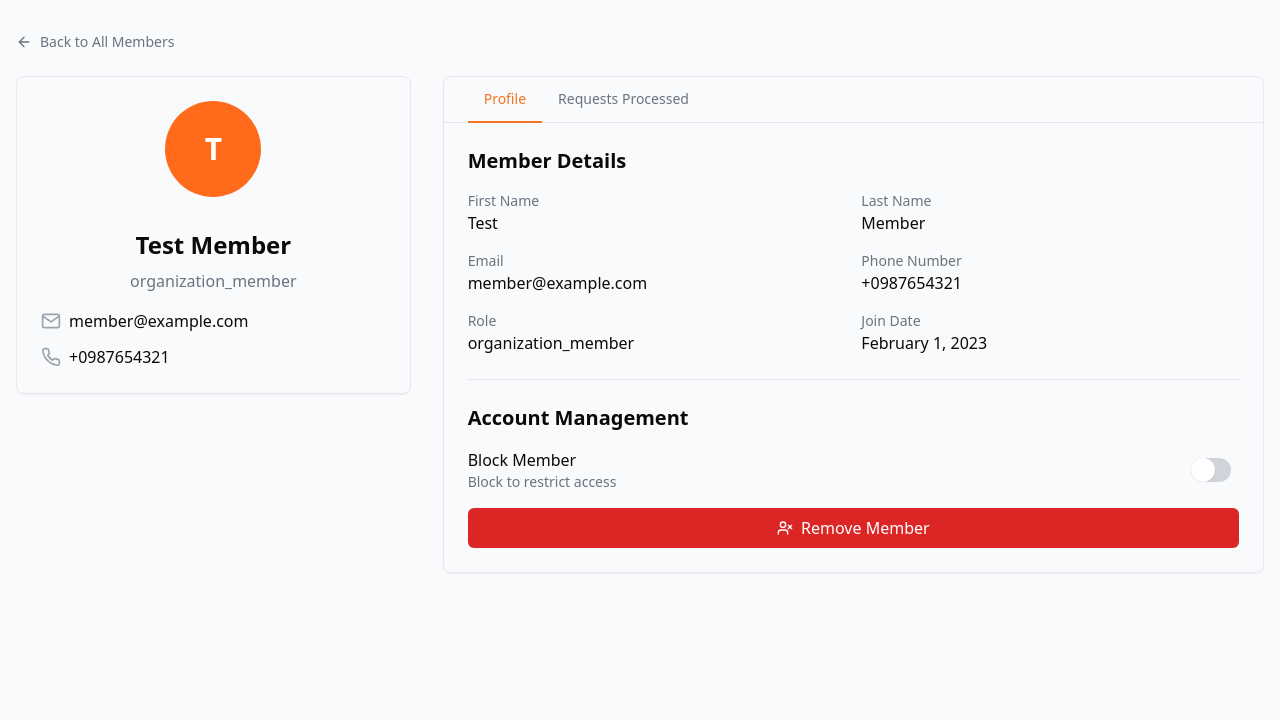
MemberProfilePage › shows empty state when no requests processed
Expected: the heading "Test Member" is shown, x1=136 y1=229 x2=291 y2=261
# Switch to Requests tab
Click the button "Requests Processed": (623, 100) x1=542 y1=77 x2=705 y2=123
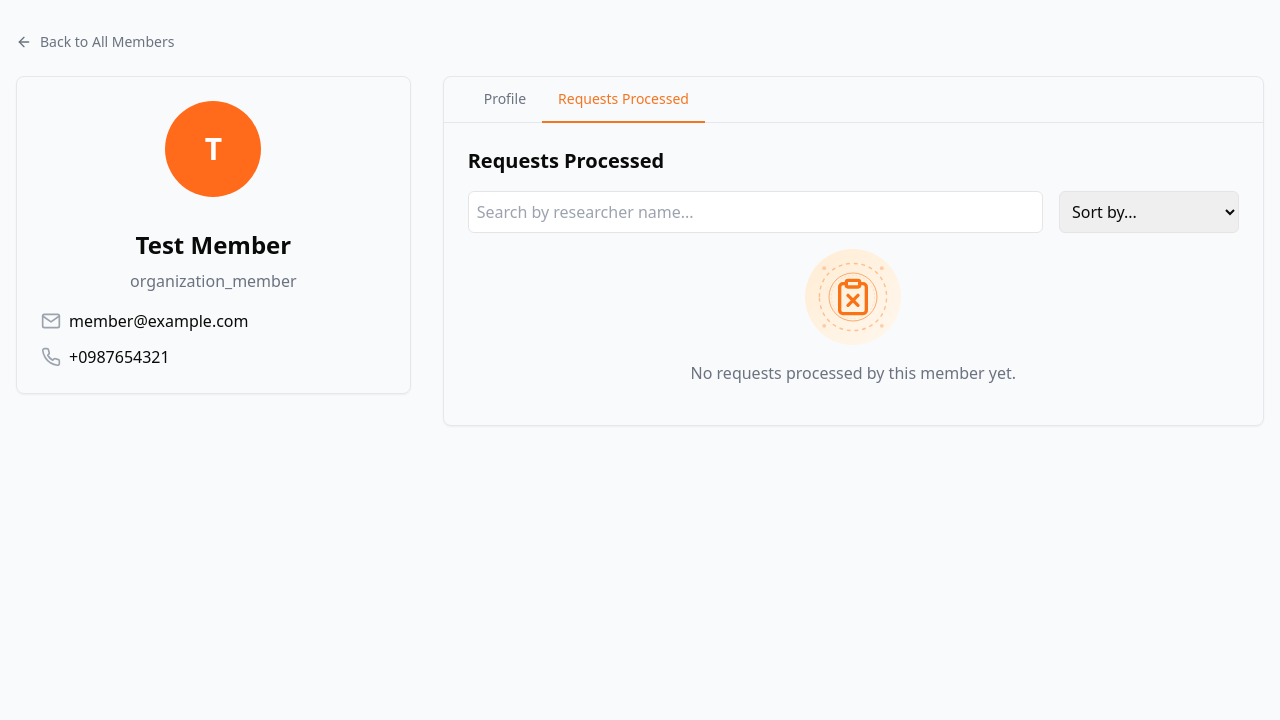
Now the text "No requests processed by this member yet." is shown, box x1=691 y1=362 x2=1016 y2=384
